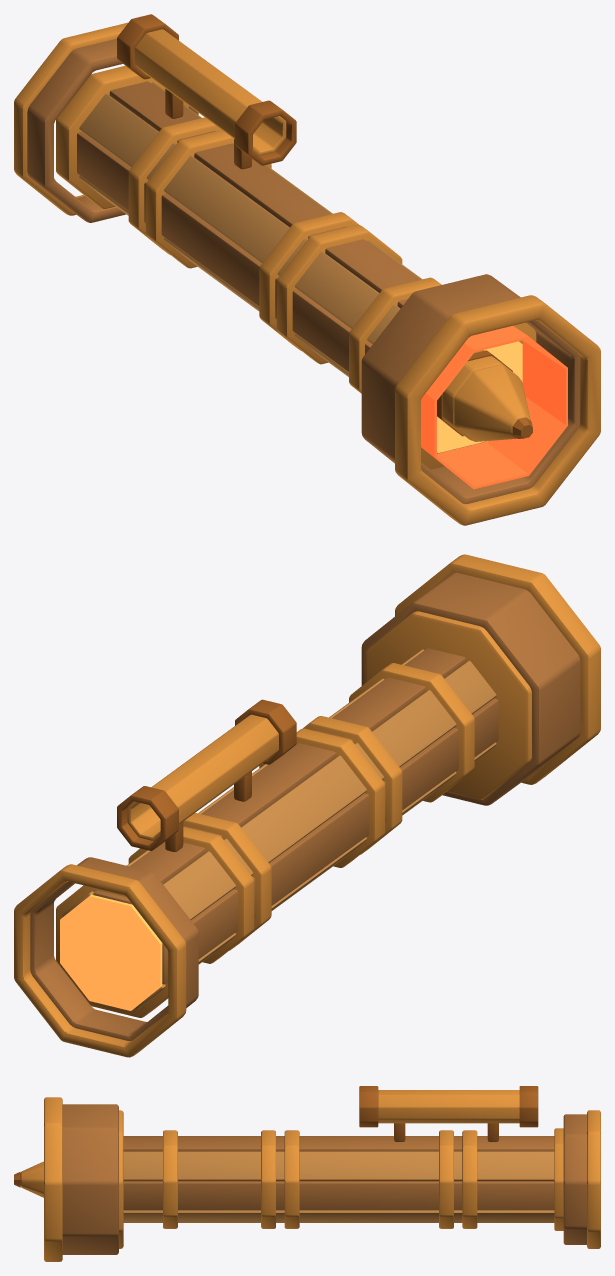
File: bazooka.glb
The picture shows the model from 3 angles, top to bottom: view 1: azimuth 30°, elevation 25°; view 2: azimuth 150°, elevation 25°; view 3: azimuth 270°, elevation 25°; orthographic projection. The views are drawn at different scales.
Visible parts, largest first — view 1: Bazooka, LoadedRocket; view 2: Bazooka; view 3: Bazooka, LoadedRocket.
Part boxes in pixels (x1=…): Bazooka: x1=14, y1=14, x2=600, y2=525; LoadedRocket: x1=437, y1=350, x2=532, y2=441; Bazooka: x1=14, y1=554, x2=600, y2=1057; Bazooka: x1=44, y1=1086, x2=600, y2=1261; LoadedRocket: x1=14, y1=1161, x2=43, y2=1197.
Bounding box in the file's own units: 1.64 × 1.89 × 6.27.
